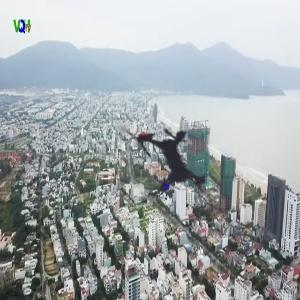drone: (82, 75, 256, 249)
